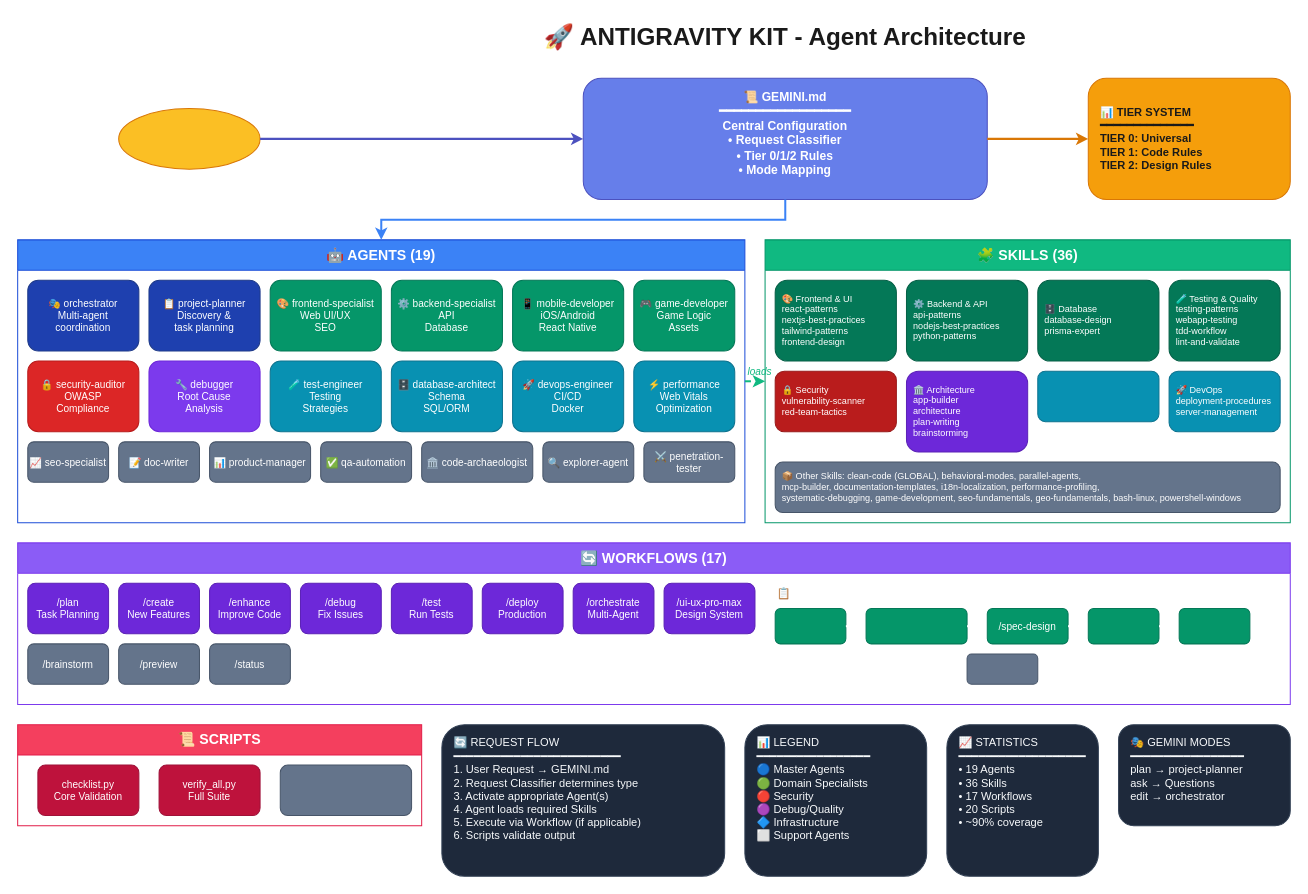
The diagram is 1308 pixels wide and 894 high, and some of its shapes have lost their labels. Each missing label, with the centre of its shape:
"+ 18 skill-level scripts (security, lint, test...)" belongs at (x=345, y=790).
"/spec-impl" belongs at (x=1214, y=626).
"/spec-init" belongs at (x=810, y=626).
"/spec-requirements" belongs at (x=916, y=626).
"/spec-status" belongs at (x=1002, y=668).
"/spec-tasks" belongs at (x=1123, y=626).
"👤 User Request" belongs at (x=189, y=138).
"📱 Mobile mobile-design" belongs at (x=1098, y=396).
